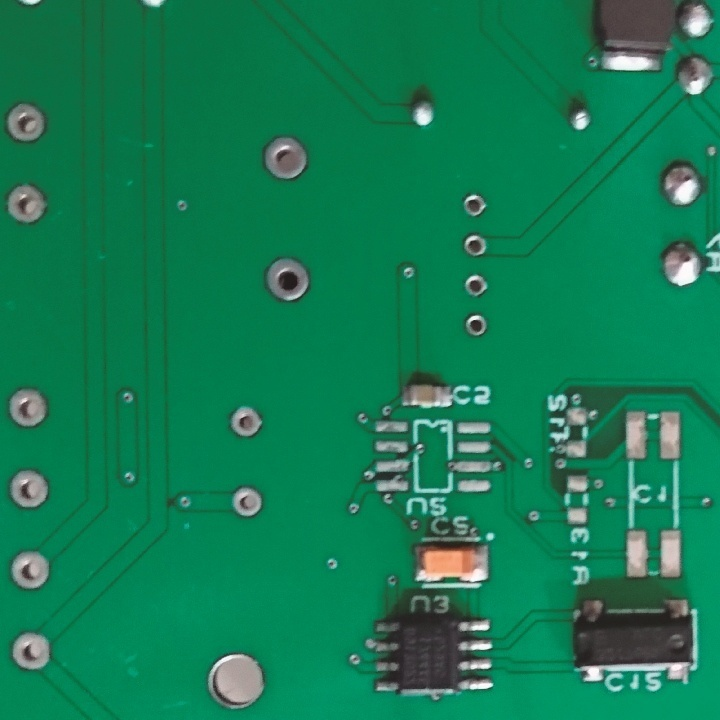F: (261, 135, 309, 183), (261, 254, 308, 302), (5, 383, 52, 430), (3, 102, 48, 146), (7, 549, 52, 593), (7, 466, 50, 512), (5, 181, 48, 226), (12, 630, 53, 674), (231, 484, 264, 522), (230, 402, 262, 441), (462, 271, 491, 299), (461, 192, 488, 221), (461, 232, 490, 259), (463, 312, 486, 339)
